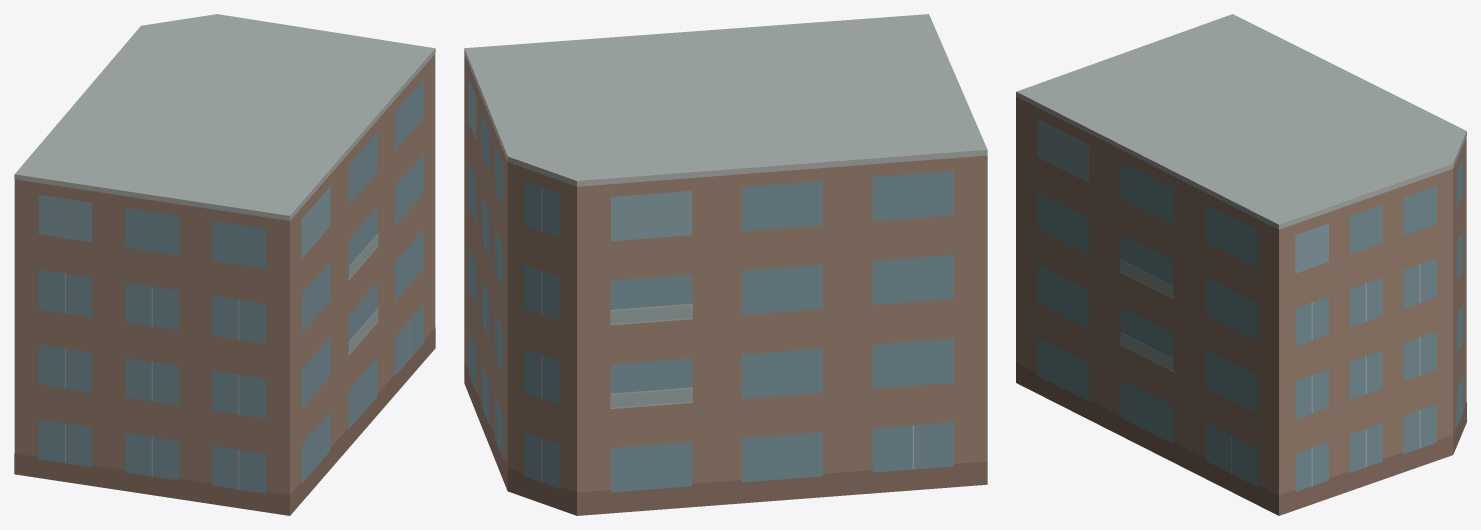
Rendered from survey-upis-32816011.glb.
3 views of the same model, side by side, from view 1: azimuth 30°, elevation 25°; view 2: azimuth 150°, elevation 25°; view 3: azimuth 270°, elevation 25° (orthographic). The views are drawn at different scales.
Visible parts, largest first — view 1: survey-upis-32816011.tmp; view 2: survey-upis-32816011.tmp; view 3: survey-upis-32816011.tmp.
Boxes of the visible parts, box(x1,y1,x2,y2) form: survey-upis-32816011.tmp: box(14, 14, 435, 515); survey-upis-32816011.tmp: box(464, 14, 987, 515); survey-upis-32816011.tmp: box(1016, 14, 1466, 515).
Size of the model in its own units: 22.36 by 14.4 by 20.21.
